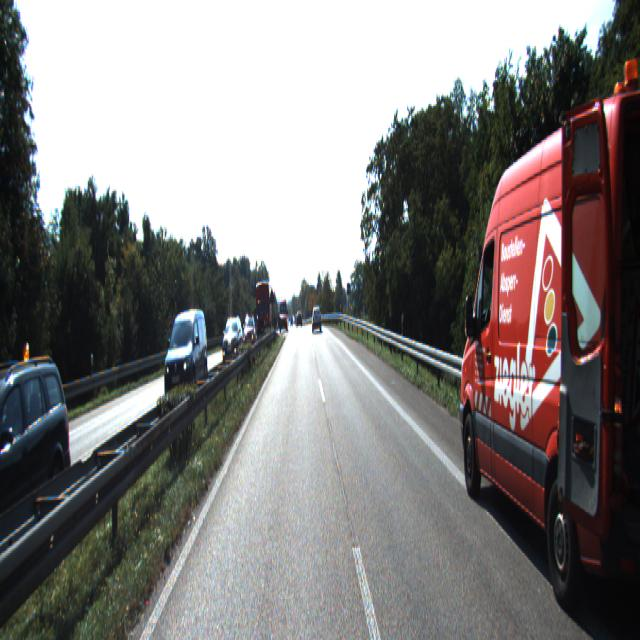Car: (0, 354, 76, 568), (222, 315, 244, 365), (242, 314, 256, 352), (312, 308, 322, 332)
DontCare: (277, 295, 304, 336)
Truck: (254, 280, 272, 340)
Van: (451, 71, 639, 638), (163, 311, 209, 398)
